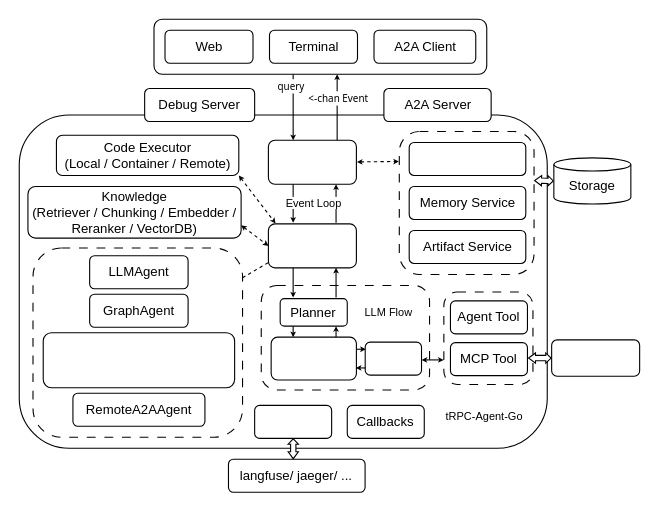
The diagram is 659 pixels wide and 512 high, and some of its shapes have lost their labels. Each missing label, with the centre of its shape:
"Agent" goes at point 311,245.
"MCP Server" goes at point 595,357.
"Model Call" goes at point 313,358.
"Multi Agent (ChainAgent / ParallelAgent / CycleAgent)" goes at point 138,360.
"Runner" goes at point 311,161.
"Session Service" goes at point 467,158.
"Telemetry" goes at point 293,421.
"Tools" goes at point 393,358.
